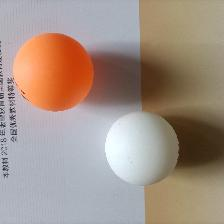WhiteBall: (103, 110, 180, 186)
YellowBall: (11, 32, 94, 112)
